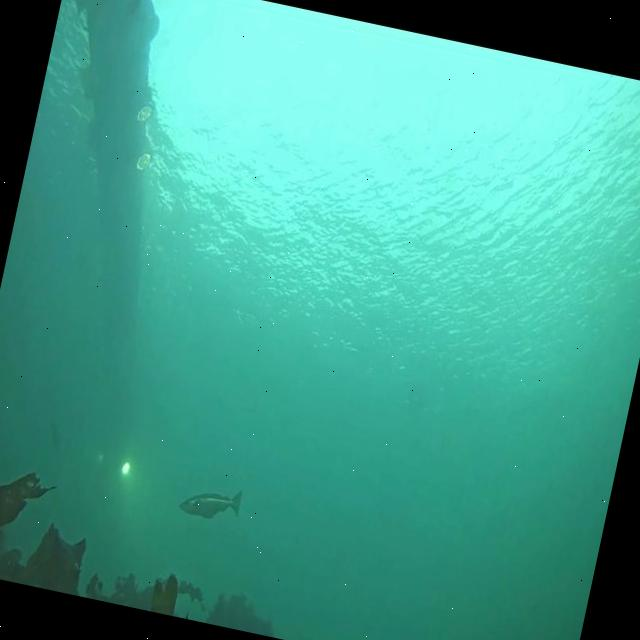fish: (178, 479, 243, 524), (42, 422, 66, 456)
